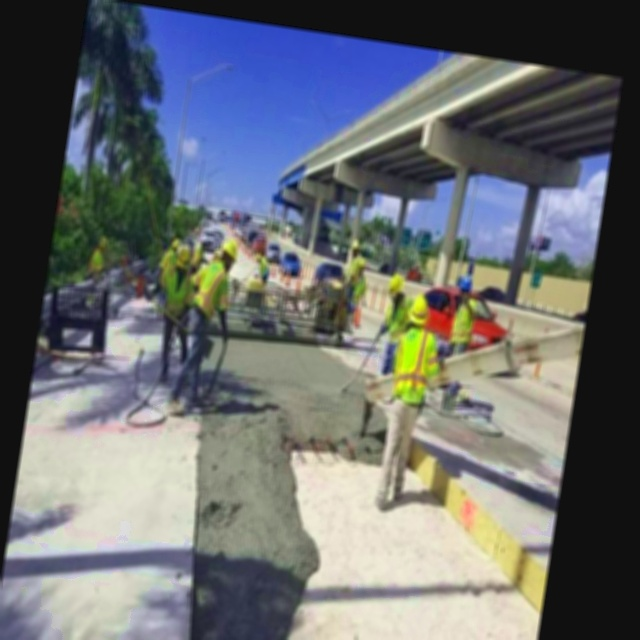Con_Casco: (406, 293, 431, 330), (220, 240, 240, 271), (457, 272, 474, 301)
Con_Chaleco: (392, 328, 437, 407), (194, 264, 228, 316), (160, 266, 192, 317)
